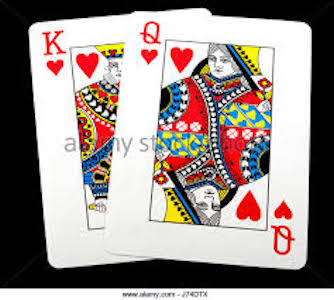KingOfHearts: (23, 12, 121, 274)
QueenOfHearts: (104, 7, 315, 275)
